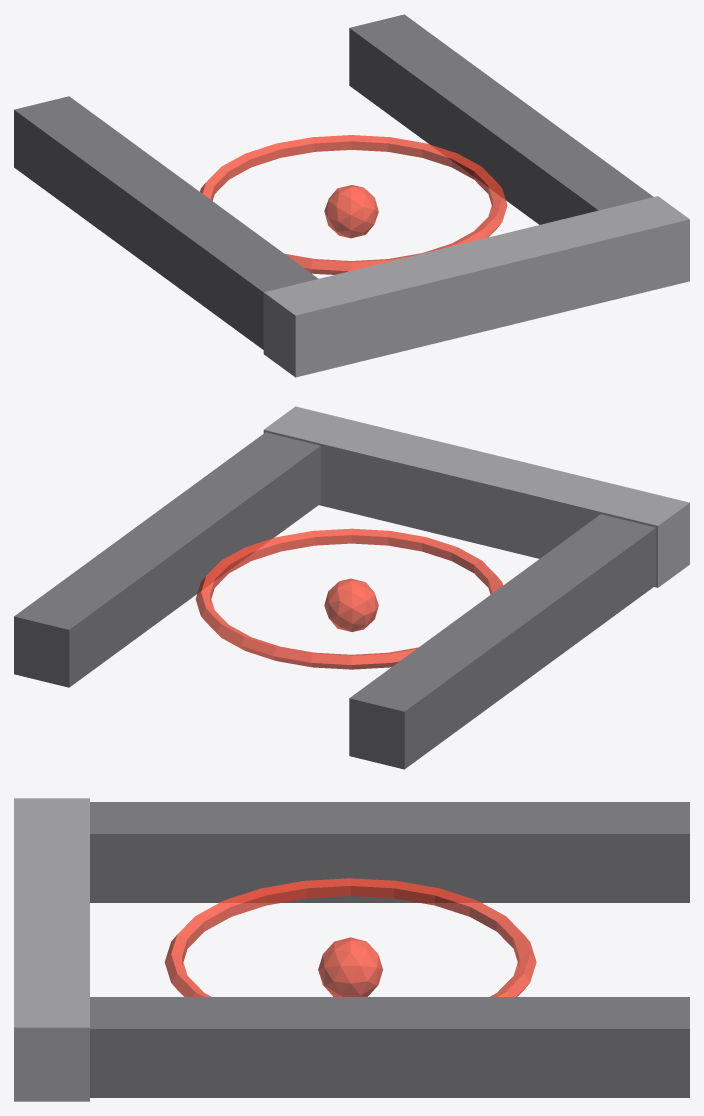
File: corporate_security_gate.glb
3 views of the same model, one above another, from view 1: azimuth 30°, elevation 25°; view 2: azimuth 150°, elevation 25°; view 3: azimuth 270°, elevation 25° (orthographic). The views are drawn at different scales.
Parts seen in each view (by area): view 1: lintel, pillar_left, pillar_right, energy_ring, core_light; view 2: pillar_left, pillar_right, lintel, energy_ring, core_light; view 3: pillar_left, pillar_right, lintel, energy_ring, core_light.
Part boxes in pixels (x1,y1,x2,y2): lintel: (263, 196, 689, 377); pillar_left: (14, 96, 318, 349); pillar_right: (349, 14, 653, 224); energy_ring: (200, 135, 507, 274); core_light: (324, 185, 378, 238); pillar_left: (349, 514, 655, 769); pillar_right: (14, 432, 320, 687); lintel: (263, 406, 689, 587); energy_ring: (195, 528, 503, 669); core_light: (324, 578, 378, 631); pillar_left: (90, 802, 689, 902); pillar_right: (90, 997, 689, 1097); lintel: (14, 798, 89, 1101); energy_ring: (164, 878, 536, 996); core_light: (318, 937, 382, 996).
Size of the model in its own units: 2 by 0.35 by 2.49.
